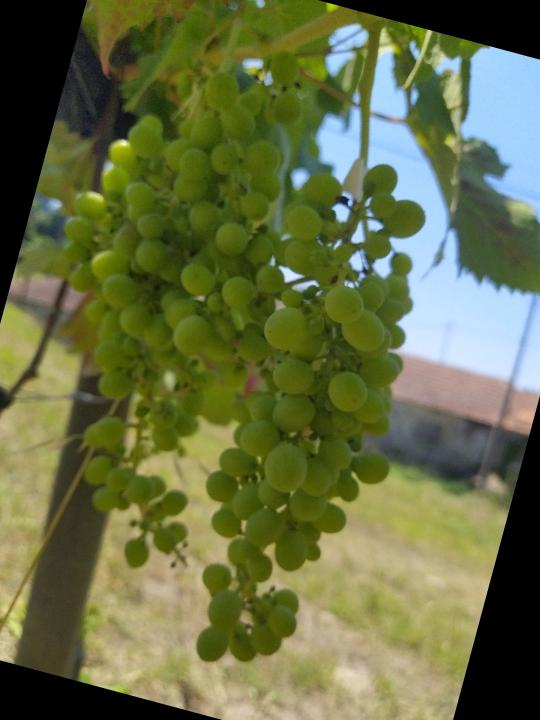grape: (0, 10, 330, 586), (158, 138, 468, 700)
